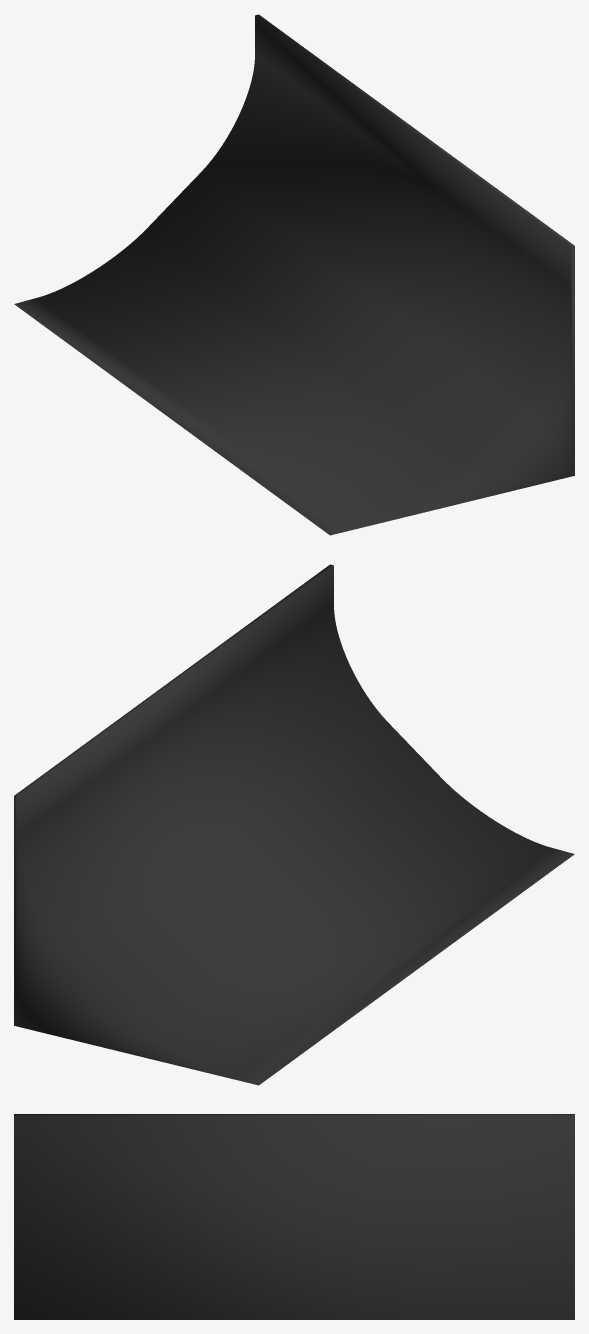
The model's file is skatepark 9 slippy pipe.fbx.
3 views of the same model, one above another, from view 1: azimuth 30°, elevation 25°; view 2: azimuth 150°, elevation 25°; view 3: azimuth 270°, elevation 25° (orthographic). The views are drawn at different scales.
Visible parts, largest first — view 1: skatepark 8.002; view 2: skatepark 8.002; view 3: skatepark 8.002.
Part boxes in pixels (x1,y1,x2,y2): skatepark 8.002: [14, 14, 574, 535]; skatepark 8.002: [14, 564, 574, 1085]; skatepark 8.002: [14, 1114, 574, 1319].
Bounding box in the file's own units: 44.49 × 39.92 × 99.49.
